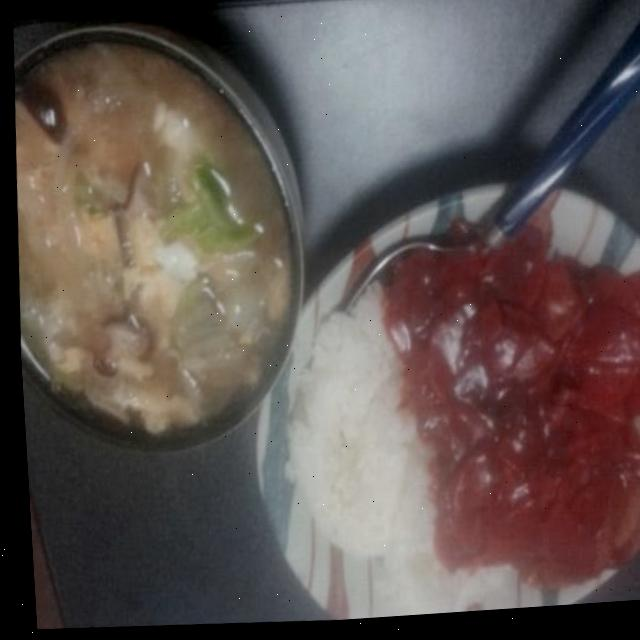汤锅炖物: (0, 0, 326, 478)
牛肉菜式: (215, 172, 640, 629)
